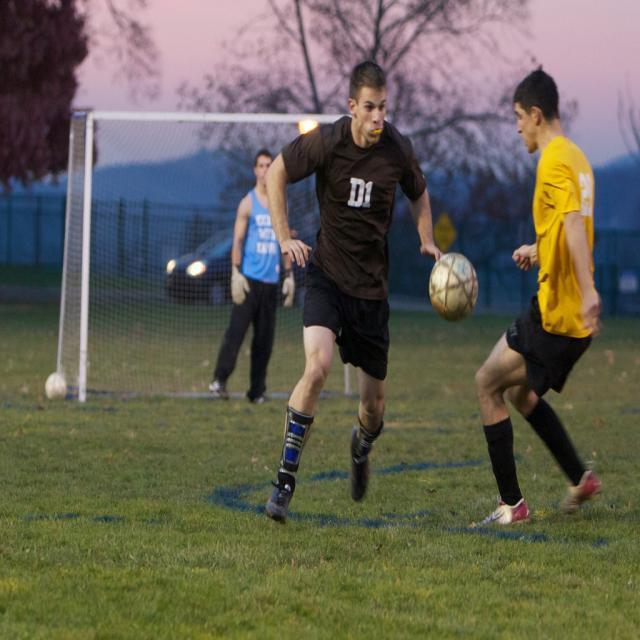football: (419, 246, 483, 319)
